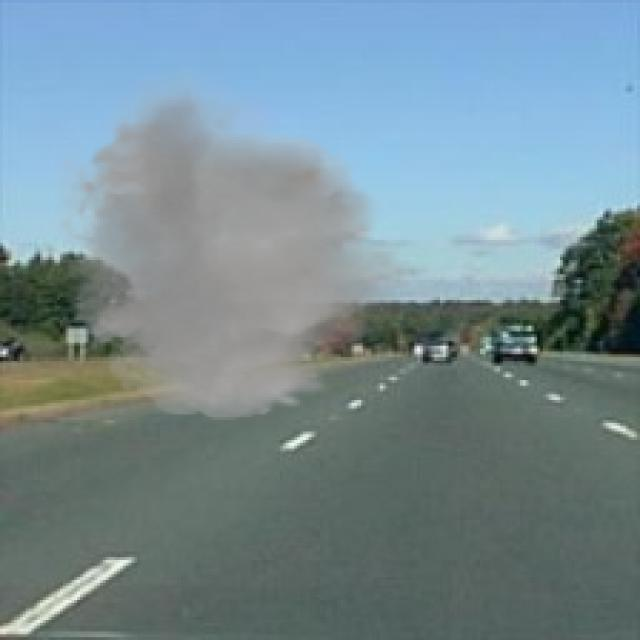smoke: (40, 63, 423, 428)
